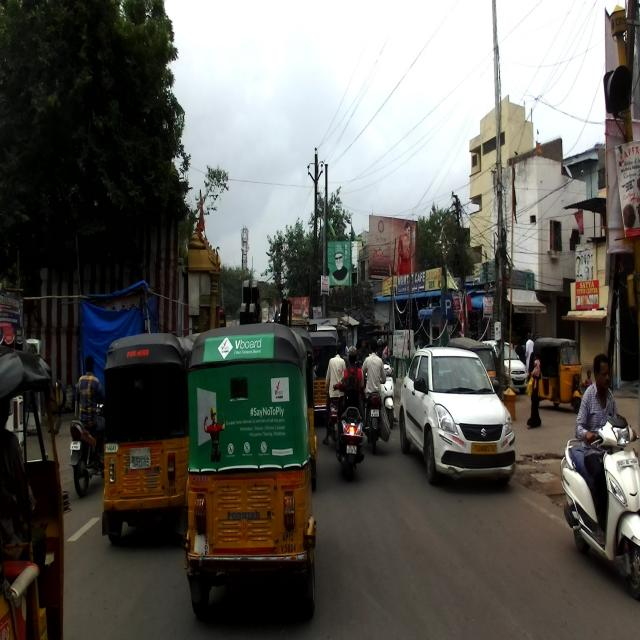Car_Maruti-Suzuki: (398, 344, 517, 487)
autorickshaw: (182, 322, 318, 618), (0, 329, 73, 639), (100, 331, 191, 547), (532, 338, 582, 414)
motorcycle_Hero: (68, 402, 106, 497)
scooter: (560, 417, 640, 599), (333, 384, 364, 482)
